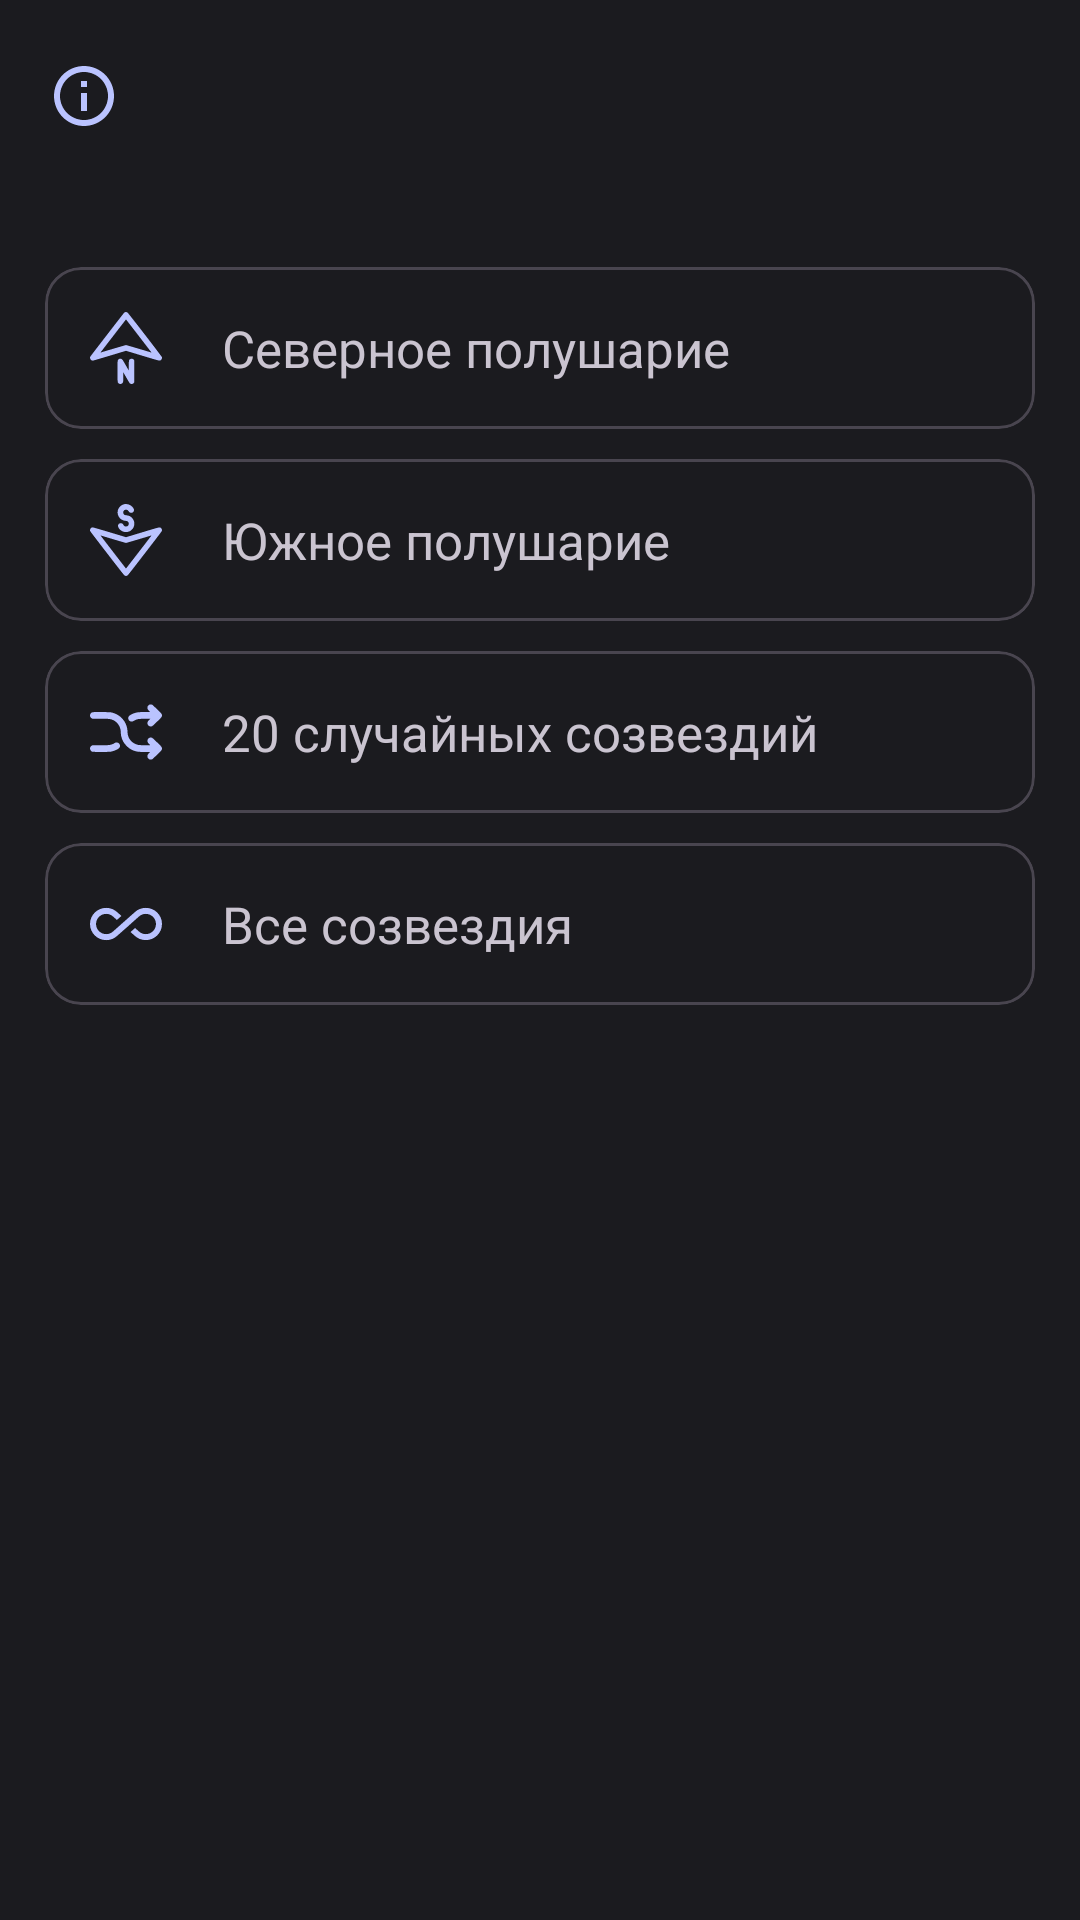

Screen size 1080 x 1920. Icon name, then its box in pixels as (x1, y1, x2, y2):
all inclusive: (90, 908, 162, 940)
random: (90, 704, 162, 760)
